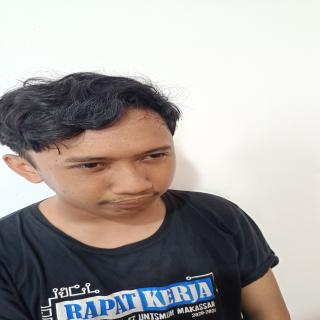Marah: (23, 109, 191, 223)
